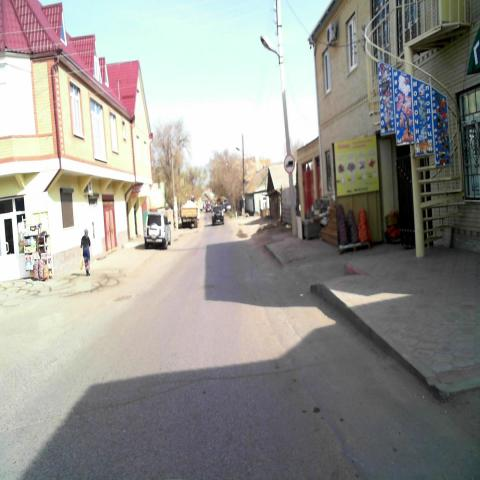3_4_1: (283, 153, 295, 174)
